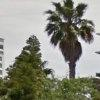Palm tree: (42, 0, 97, 81)
